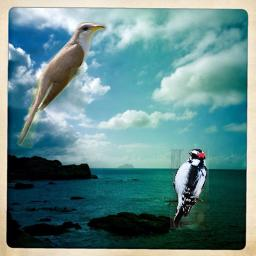Cuckoo: (15, 22, 106, 148)
Woodpecker: (169, 149, 209, 229)
